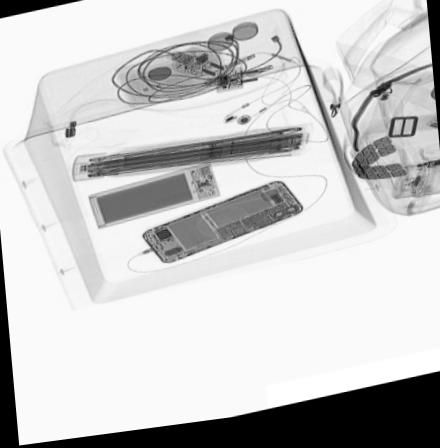Powerbank: (86, 168, 225, 233)
